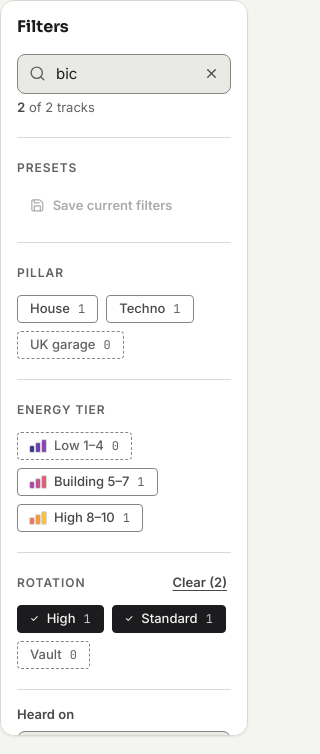
Test case: CrateFilterRail search › suggests matching artists with their track count
Focus the dropdown named "Search tracks" at (124, 74), box [17, 54, 231, 94]
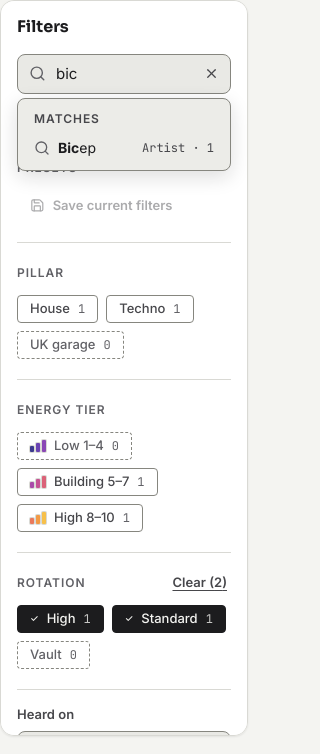
Expected: the option shows "Artist · 1", [34, 139, 214, 156]
